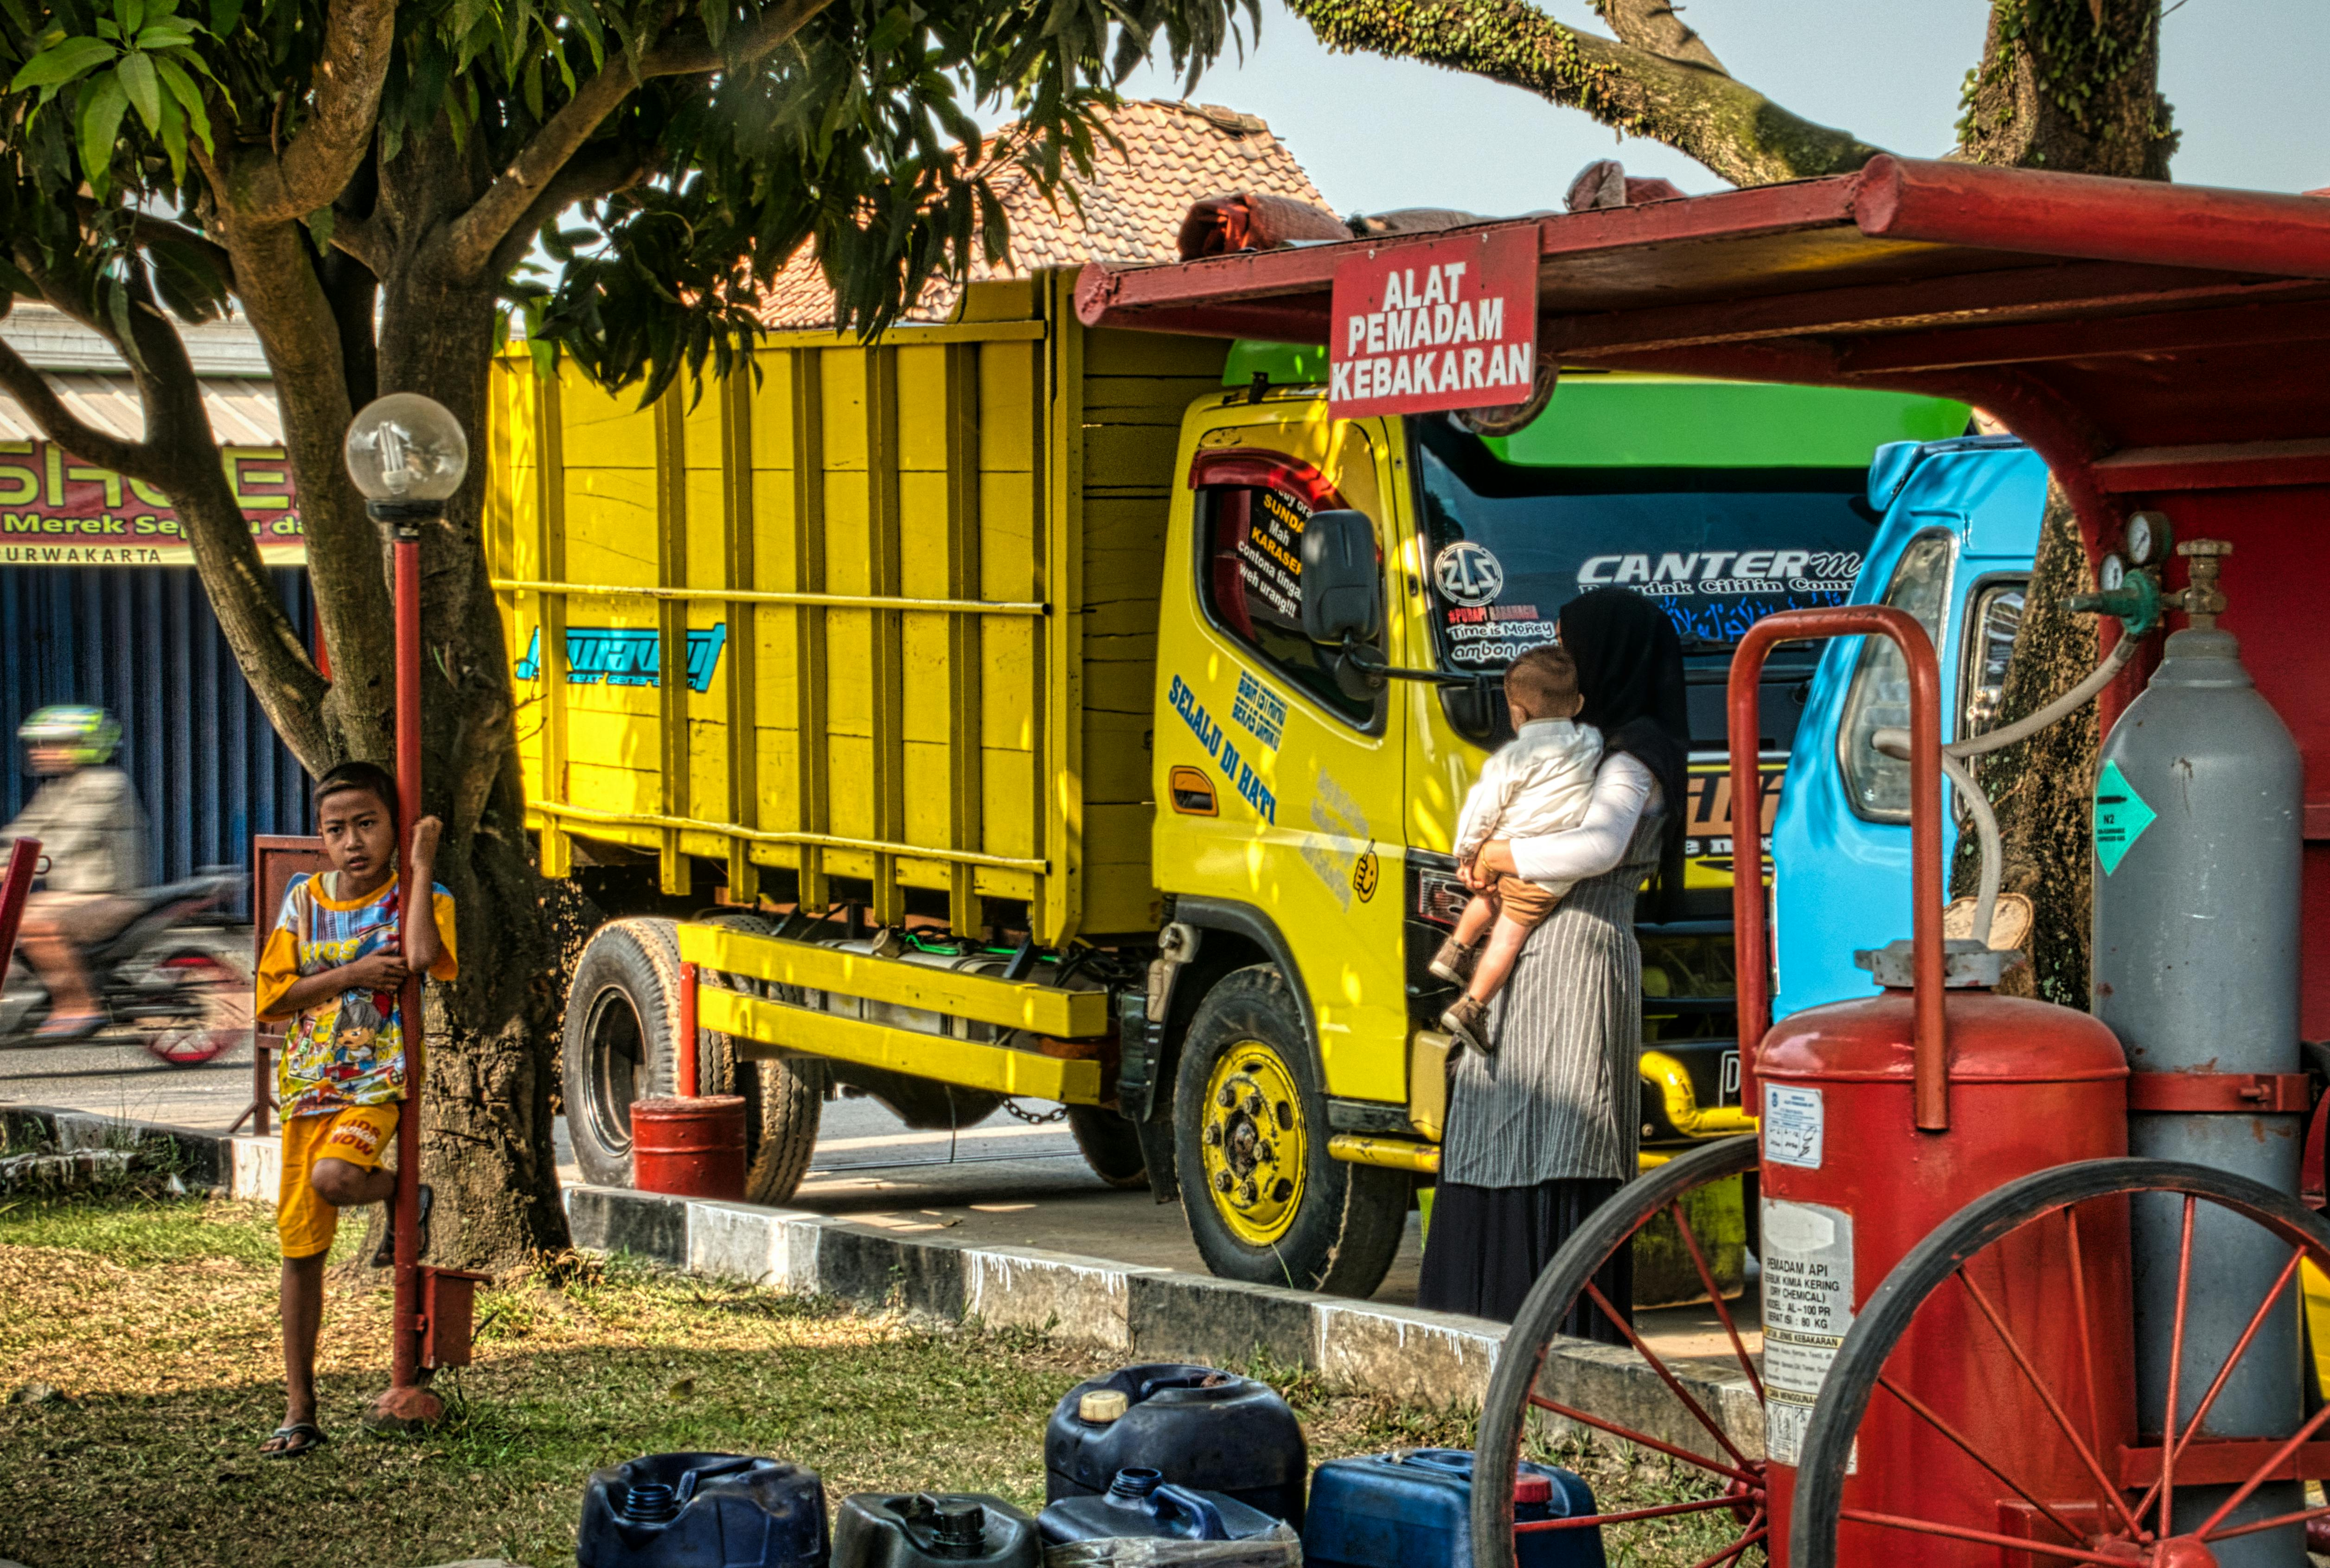extintor: (1738, 929, 2146, 1566)
